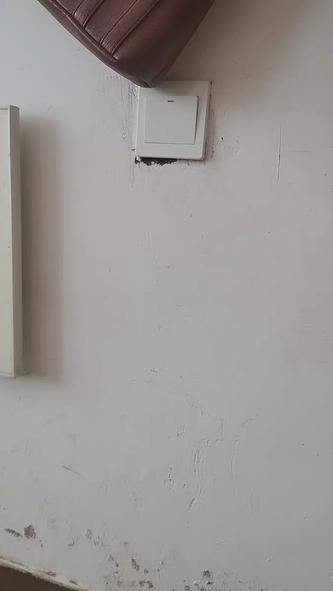switch: (139, 87, 205, 150)
